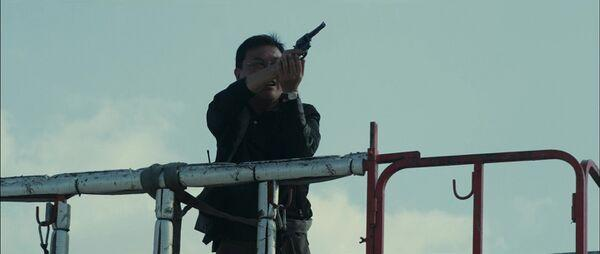Gun: (293, 21, 327, 60)
